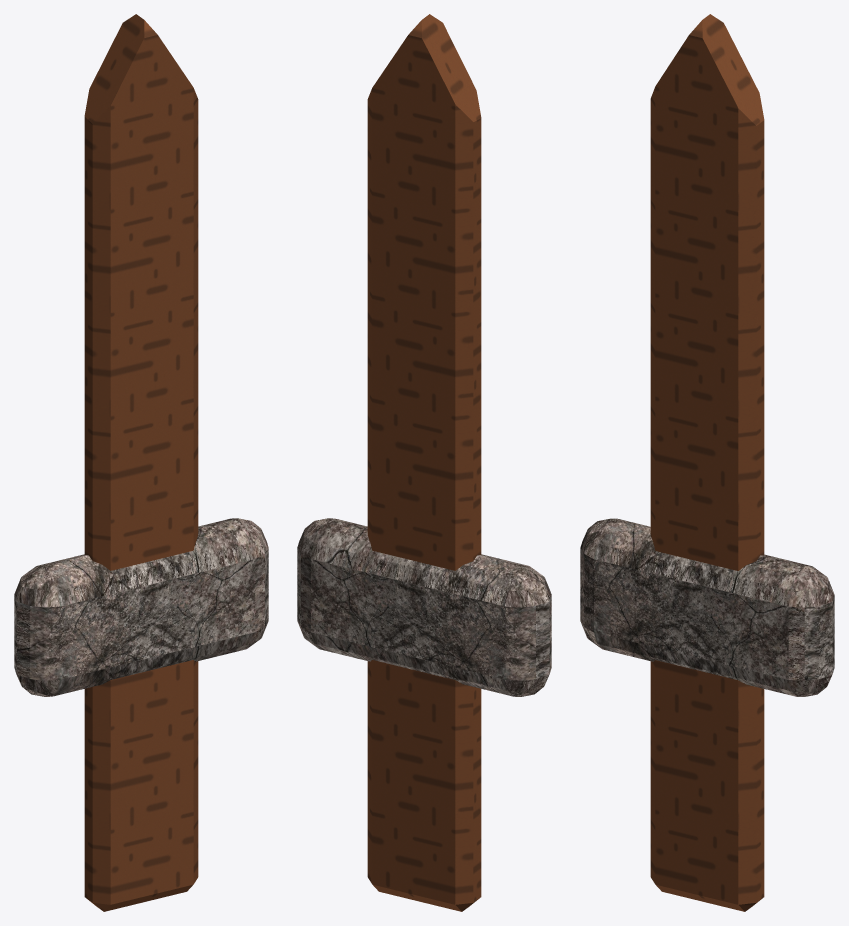
The model's file is wooden_sword.glb.
3 views of the same model, side by side, from view 1: azimuth 30°, elevation 25°; view 2: azimuth 150°, elevation 25°; view 3: azimuth 330°, elevation 25° (orthographic).
Visible parts, largest first — view 1: Cube.001, Cube; view 2: Cube.001, Cube; view 3: Cube.001, Cube.
Part boxes in pixels (x1,y1,x2,y2): Cube.001: (84, 14, 198, 911); Cube: (14, 518, 268, 696); Cube.001: (367, 14, 481, 911); Cube: (297, 518, 551, 696); Cube.001: (650, 14, 764, 911); Cube: (580, 518, 834, 696).
Bounding box in the file's own units: 0.6 × 2.03 × 0.1345.
Materials: 2 (2 with a texture image).
